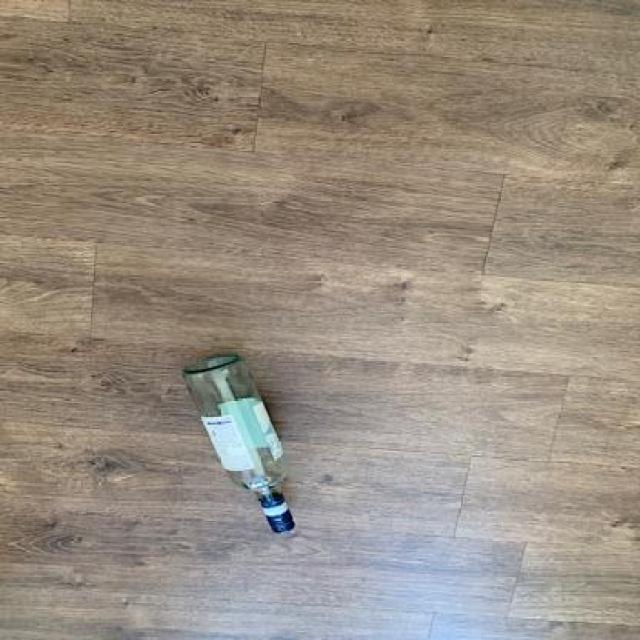trash: (182, 348, 308, 542)
